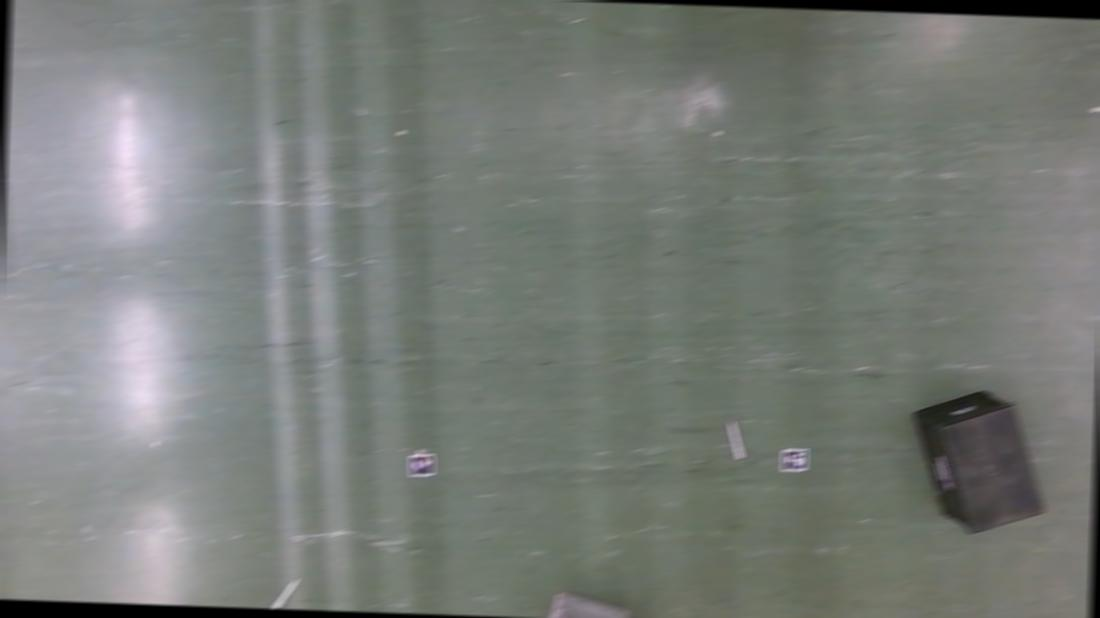probes: (272, 578, 298, 610), (726, 418, 744, 458)
rako: (908, 384, 1048, 534)
